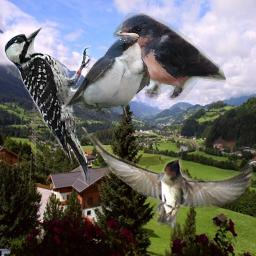Swallow: (87, 133, 256, 234), (113, 13, 226, 100), (65, 36, 151, 122)
Woodpecker: (2, 26, 94, 190)
